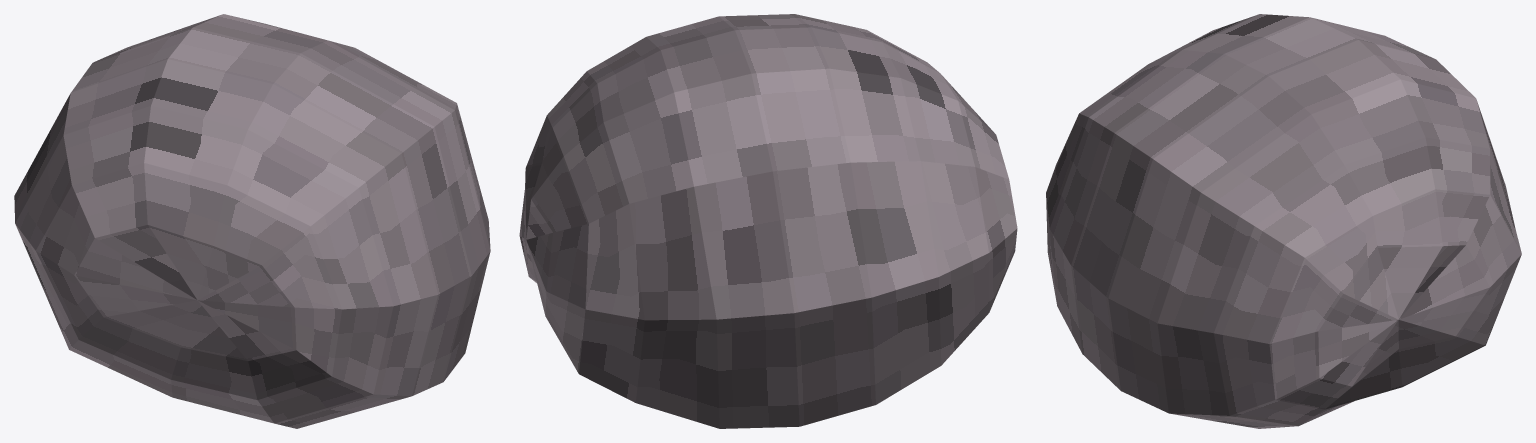
The model's file is pedres_3.FBX.
3 renders of one model, left to right at view 1: azimuth 30°, elevation 25°; view 2: azimuth 150°, elevation 25°; view 3: azimuth 270°, elevation 25°, orthographic. The views are drawn at different scales.
Visible parts, largest first — view 1: pedres_3; view 2: pedres_3; view 3: pedres_3.
Part boxes in pixels (box(x1,y1,x2,y2)): pedres_3: box(14, 14, 490, 428); pedres_3: box(519, 14, 1017, 428); pedres_3: box(1046, 14, 1521, 428).
Size of what is drawn, in the model's own units: 1468 by 1427 by 1125.
